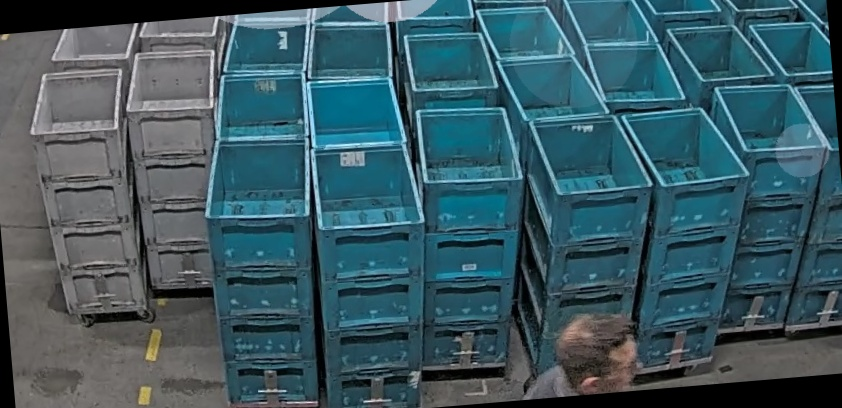4G: (24, 65, 147, 318), (120, 46, 237, 290)
B4: (505, 108, 669, 379), (608, 103, 766, 372), (196, 131, 334, 408), (400, 102, 541, 370), (697, 76, 842, 331), (308, 138, 442, 408)
